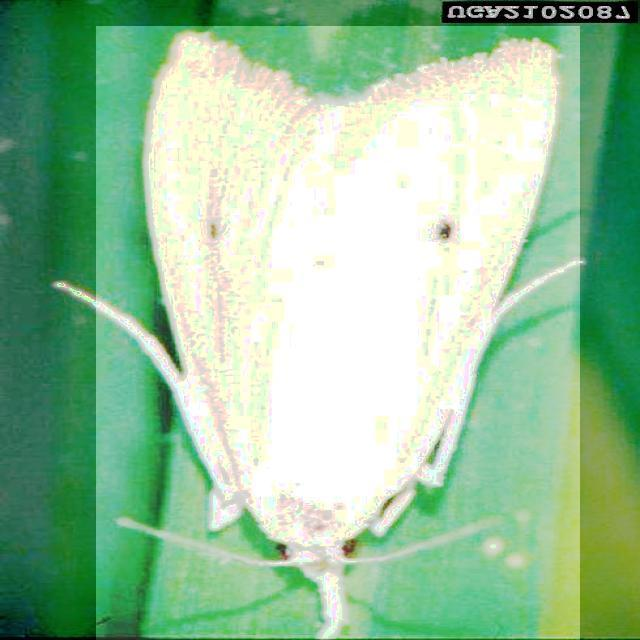stem-borer: (96, 26, 580, 640)
